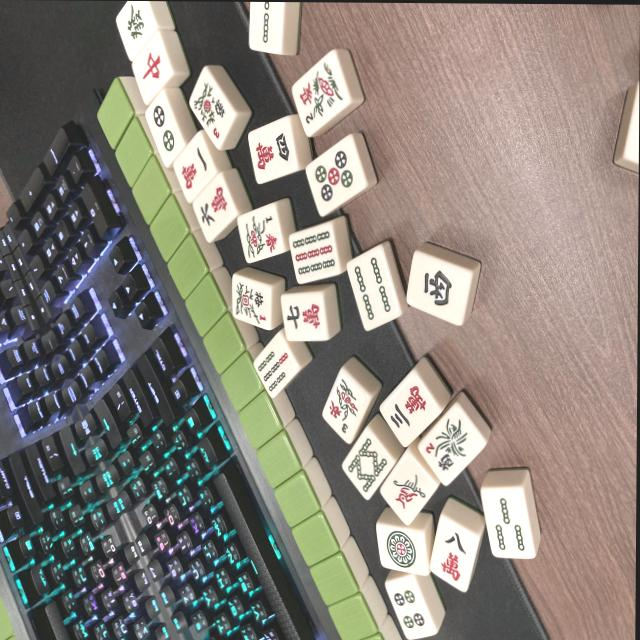f1: (230, 278, 272, 332)
f2: (417, 403, 489, 488)
f3: (190, 72, 237, 148)
fa: (117, 1, 158, 60)
ff1: (238, 205, 285, 266)
ff2: (290, 54, 353, 138)
ff3: (321, 374, 372, 444)
m1: (170, 133, 218, 204)
m3: (379, 374, 445, 449)
m4: (249, 117, 300, 185)
m6: (190, 174, 238, 243)
m7: (282, 294, 330, 343)
m8: (431, 522, 480, 595)
s1: (380, 453, 441, 525)
s2: (249, 2, 284, 56)
s3: (481, 488, 533, 561)
s4: (347, 245, 403, 331)
s7: (253, 338, 302, 396)
s8: (340, 432, 396, 501)
s9: (290, 224, 342, 285)
t1: (376, 527, 427, 577)
t2: (144, 92, 190, 168)
t4: (387, 576, 438, 640)
t5: (306, 137, 370, 218)
west: (409, 253, 474, 327)
zhong: (130, 35, 174, 104)
